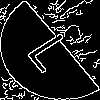L: (25, 25, 86, 75)
